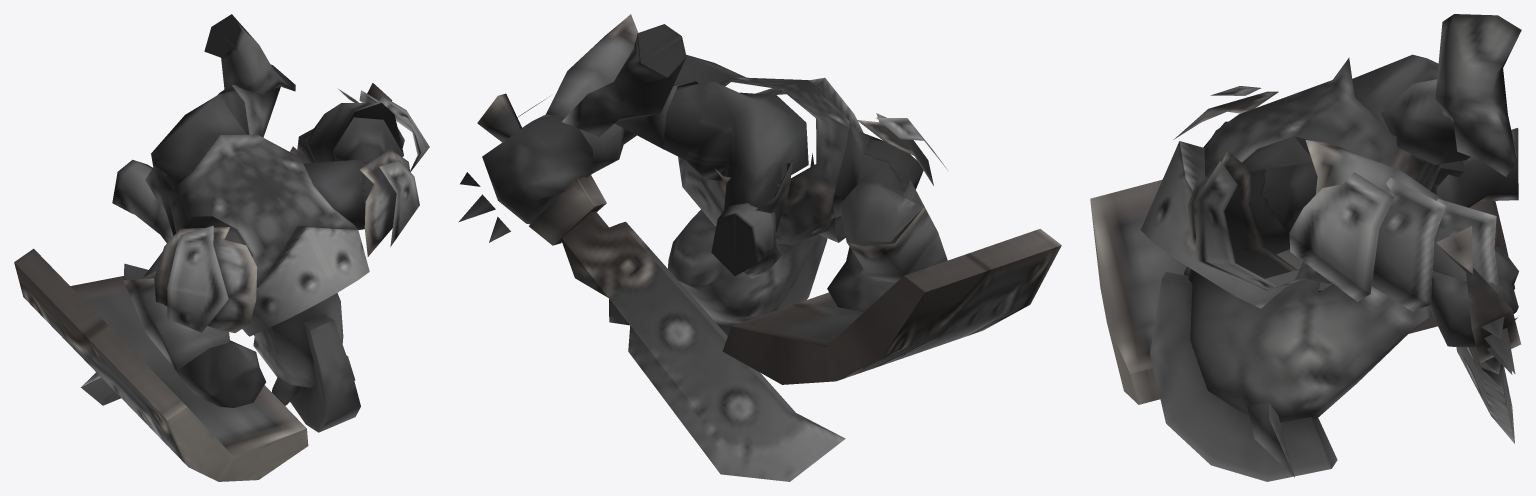
The model's file is compound_dead.glb.
The picture shows the model from 3 angles, left to right: view 1: azimuth 30°, elevation 25°; view 2: azimuth 150°, elevation 25°; view 3: azimuth 270°, elevation 25°; orthographic projection. The views are drawn at different scales.
Parts seen in each view (by area): view 1: parts.model_dead-MeshNodes["deadmesh"]; view 2: parts.model_dead-MeshNodes["deadmesh"]; view 3: parts.model_dead-MeshNodes["deadmesh"].
Part boxes in pixels (left/top/right/bottom): parts.model_dead-MeshNodes["deadmesh"]: left=14, top=14, right=429, bottom=481; parts.model_dead-MeshNodes["deadmesh"]: left=458, top=14, right=1061, bottom=481; parts.model_dead-MeshNodes["deadmesh"]: left=1090, top=14, right=1521, bottom=481.
Size of the model in its own units: 2.43 by 2.15 by 1.75.
Materials: 1 (1 with a texture image).
